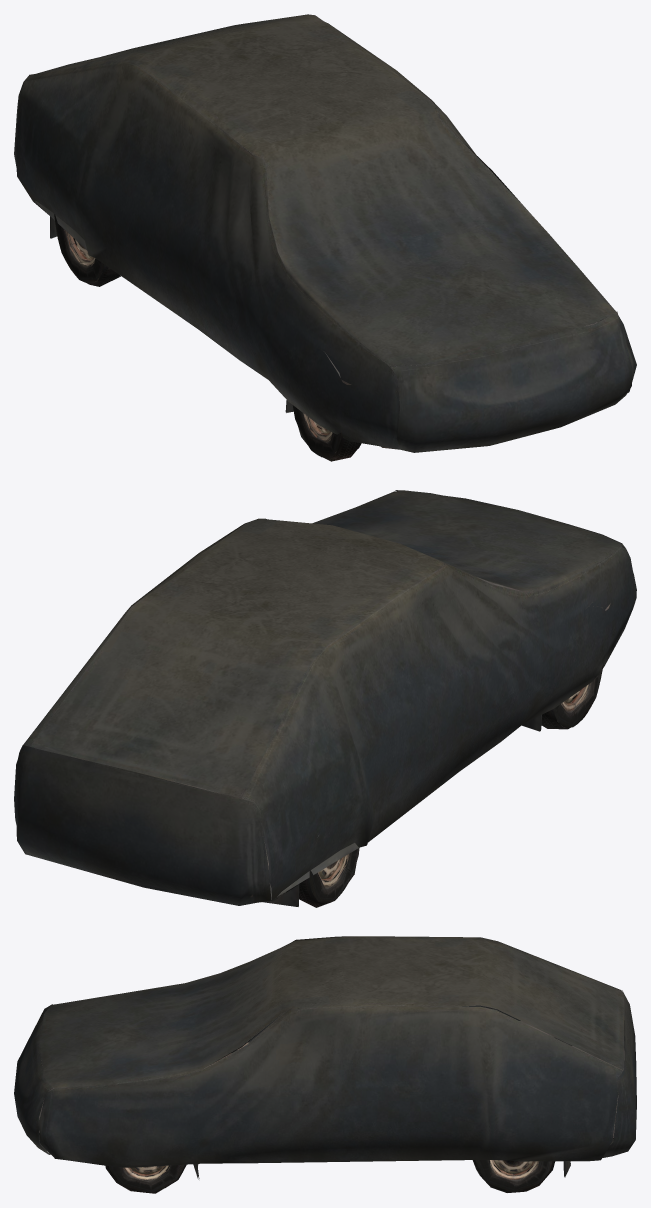
File: covered_car.glb
3 renders of one model, top to bottom at view 1: azimuth 30°, elevation 25°; view 2: azimuth 150°, elevation 25°; view 3: azimuth 270°, elevation 25°, orthographic. The views are drawn at different scales.
Visible parts, largest first — view 1: CC0_covered_car; view 2: CC0_covered_car; view 3: CC0_covered_car.
Boxes of the visible parts, box(x1,y1,x2,y2) form: CC0_covered_car: box(14, 14, 636, 461); CC0_covered_car: box(14, 490, 636, 907); CC0_covered_car: box(14, 936, 636, 1193).
Size of the model in its own units: 1.8 by 1.41 by 4.37.
2 materials, 2 textured.
